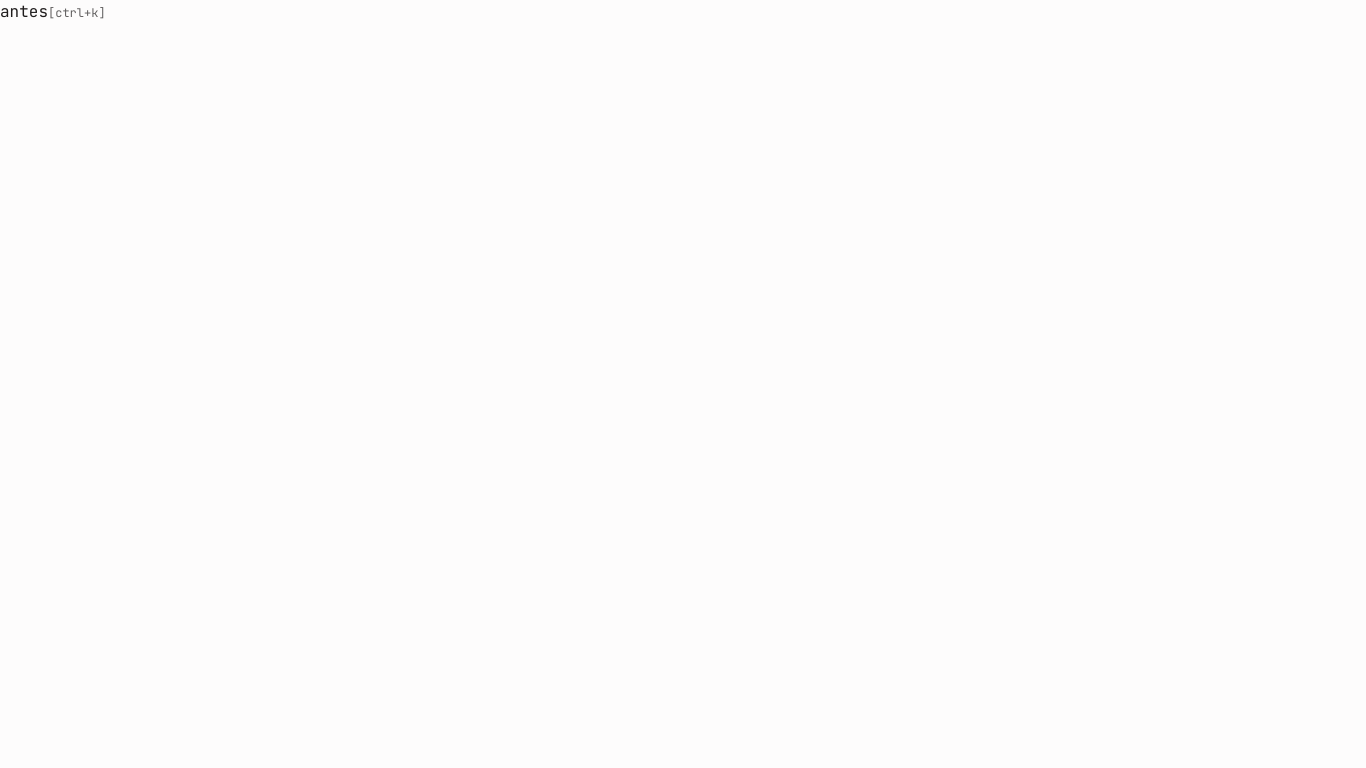
CommandPalette › agrupa acciones y filtra por texto
Type keys "{Control>}k{/Control}"
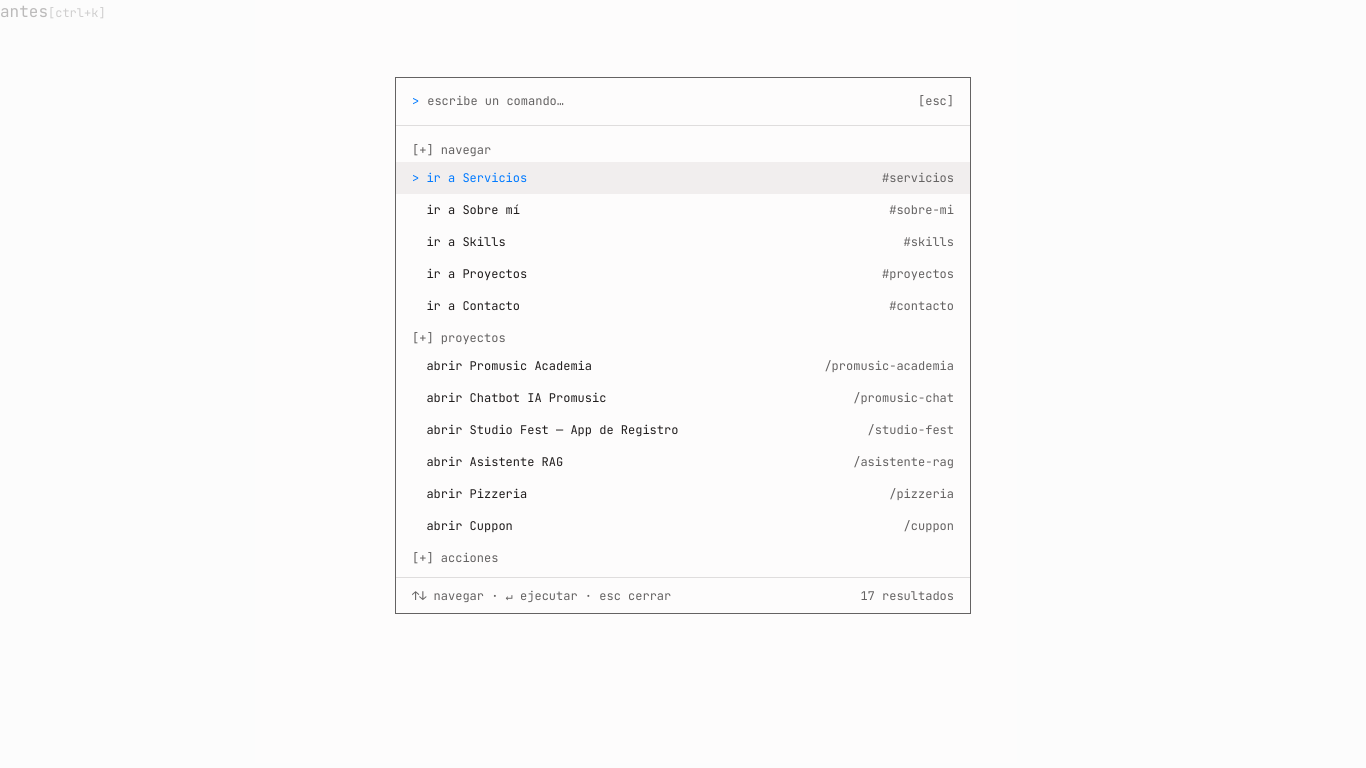
Now the text "[+] navegar" is shown, box [412,142,491,158]
Now the text "[+] proyectos" is shown, box [412,330,506,346]
Now the text "[+] acciones" is shown, box [412,550,498,566]
Type "linkedin" into the dropdown at coordinates (669, 101), box [427,93,910,109]
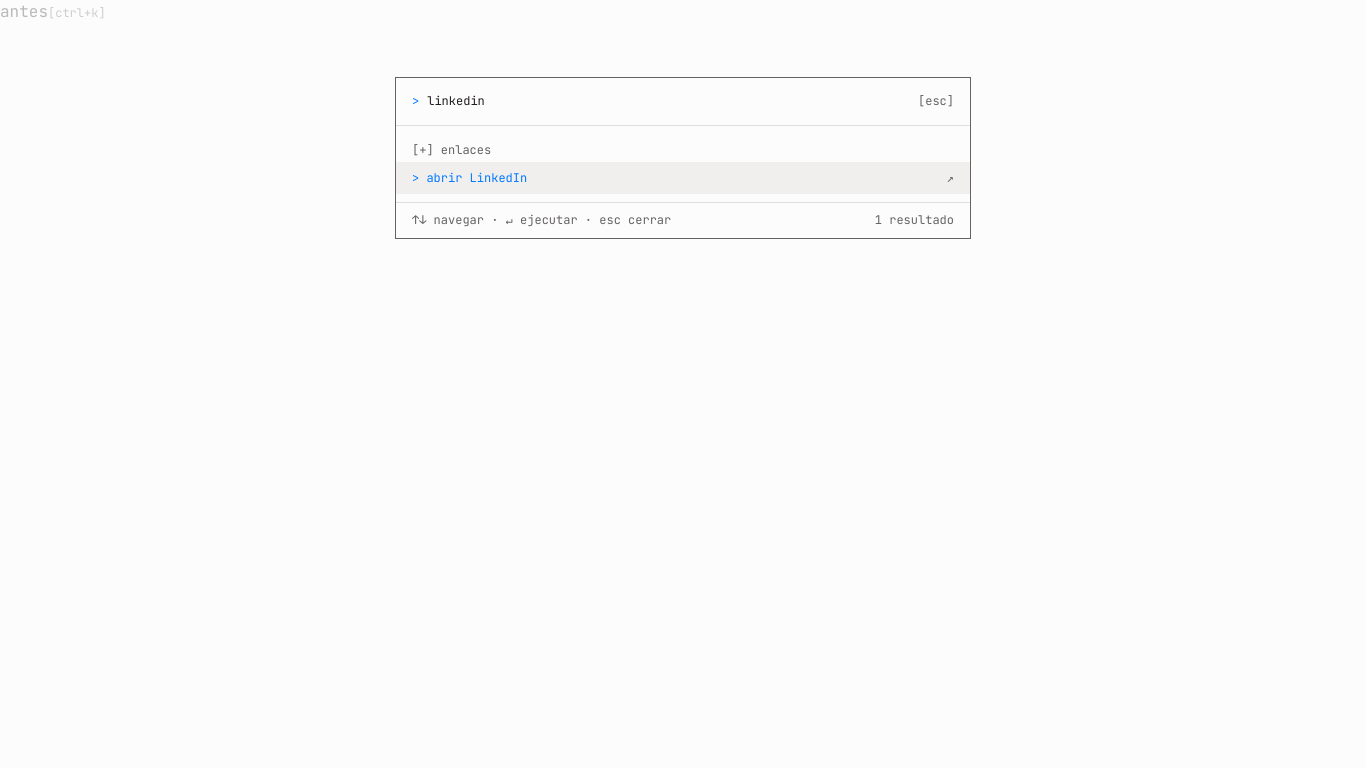
Now the number of options is 1, box [396,162,970,194]
Now the option shows "abrir LinkedIn", box [396,162,970,194]
